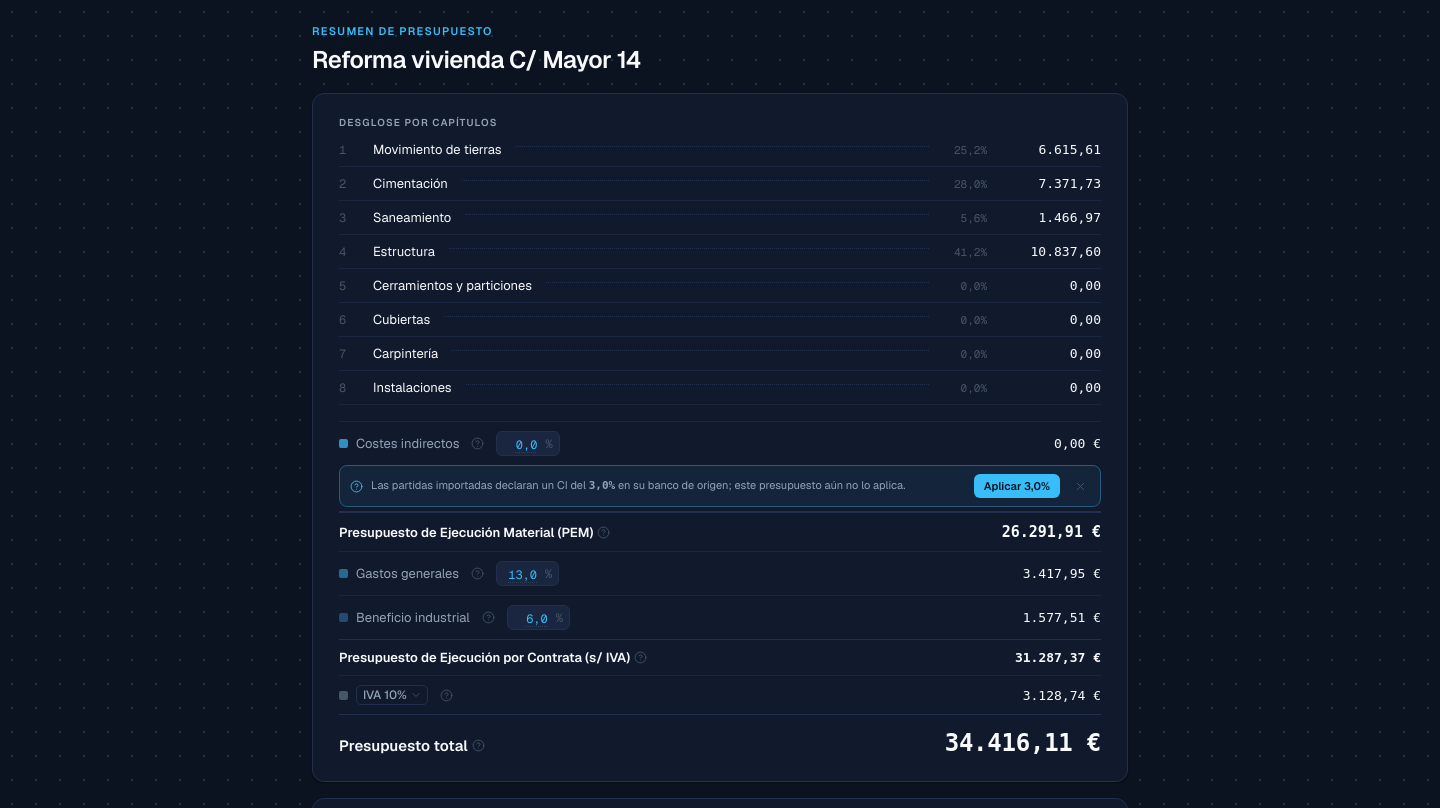
Test: ResumenView (F7.1) — hoja editable › ofrece el CI que declaran las partidas importadas, y solo lo aplica al pulsar
The width and height of the screenshot is (1440, 808).
Expected: the text "declaran un CI del" is shown, [371, 478, 586, 492]
What coordinates should you click on to do the following:
click the button "Aplicar 3,0%"
I would click on:
 (1017, 486)
Its box is [974, 474, 1060, 498].
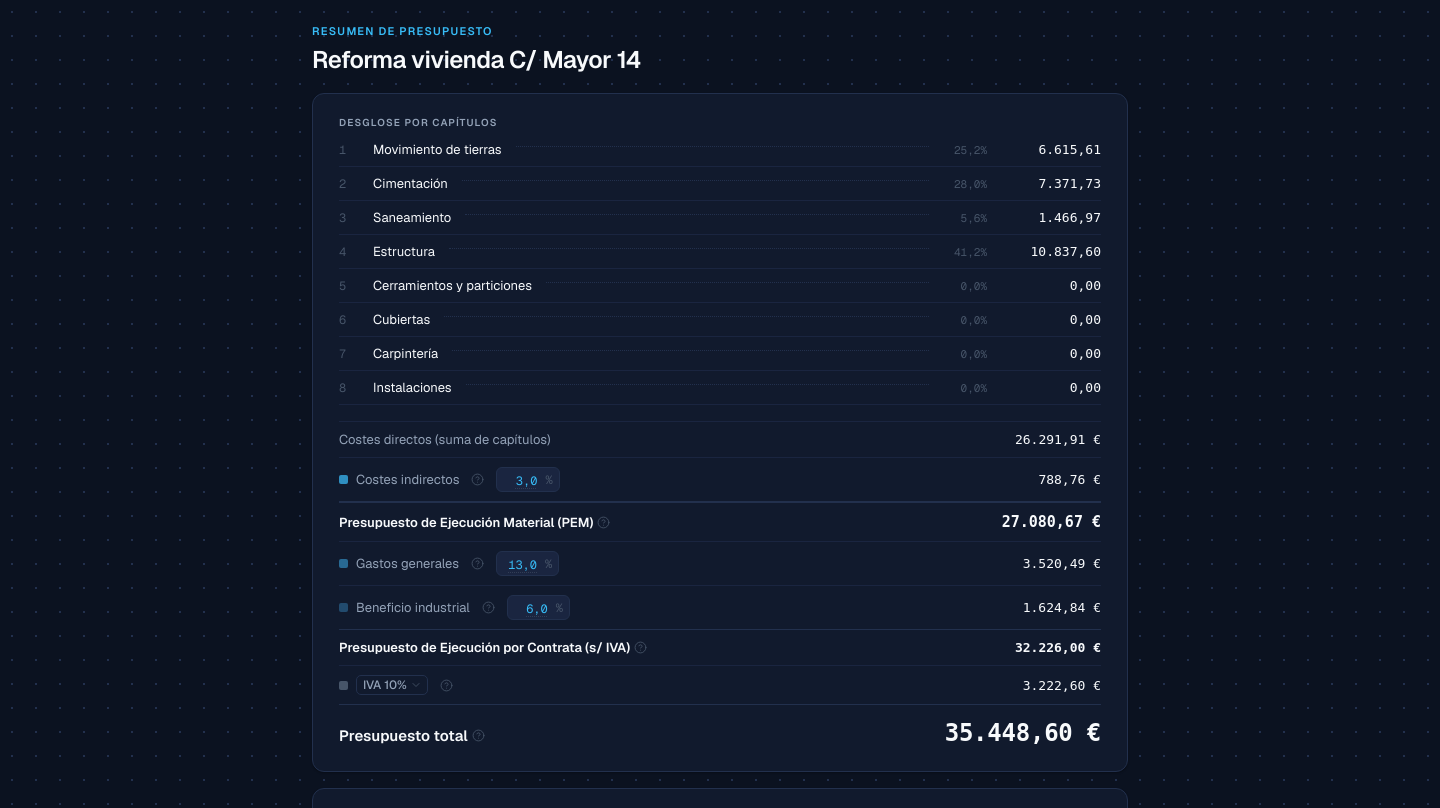
Expected: the text "declaran un CI del" is gone
